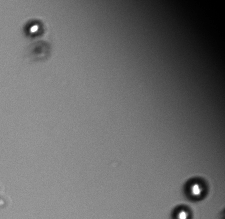Dead Cell: (28, 40, 51, 61)
Living Cell: (183, 175, 210, 204), (24, 18, 43, 37), (170, 204, 195, 218)
